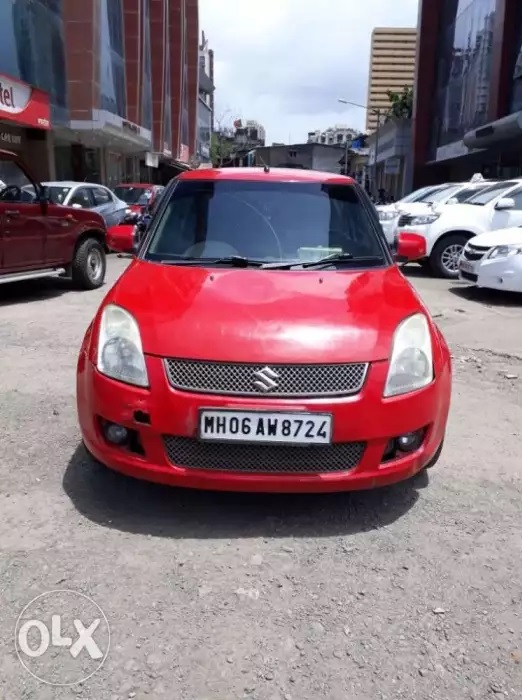licenseplate: (197, 404, 335, 450)
